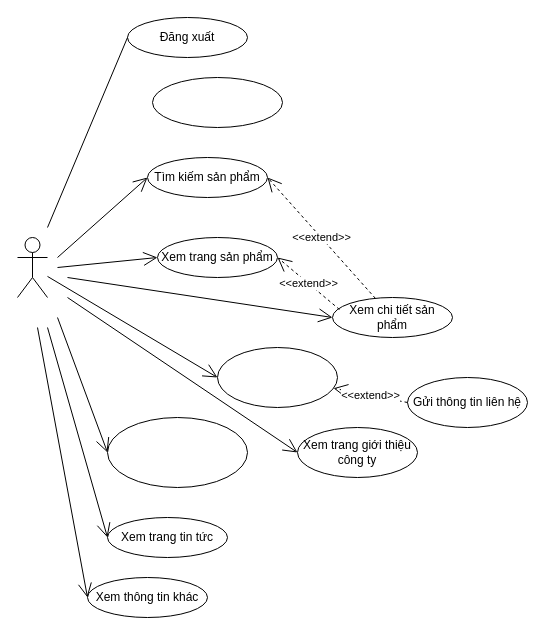
Image size: 545x635. Some labels were removed from this diagram. Here are the shapes that lost their labels. From the top down, the centre of each, then its label:
At point (217, 102): "Xem danh mục sản phẩm".
At point (32, 267): "User".
At point (277, 377): "Xem mục hỗ trợ khách hàng".
At point (177, 452): "Xem trang thông tin liên hệ nhà phân phối".
